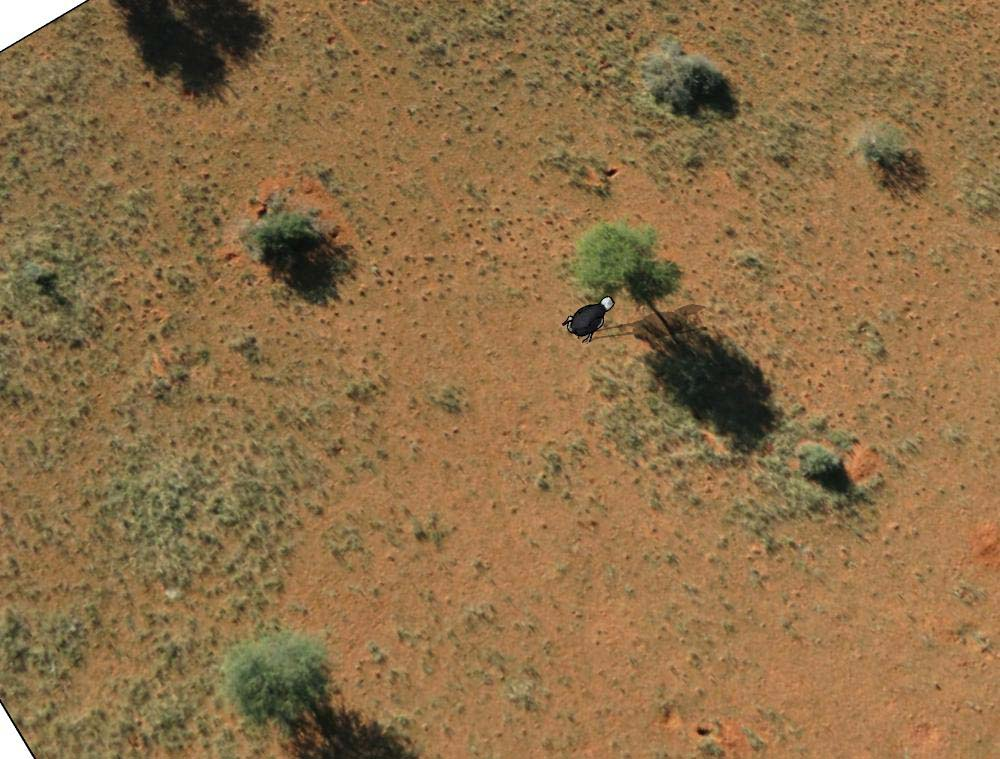ostrich: (561, 296, 616, 343)
